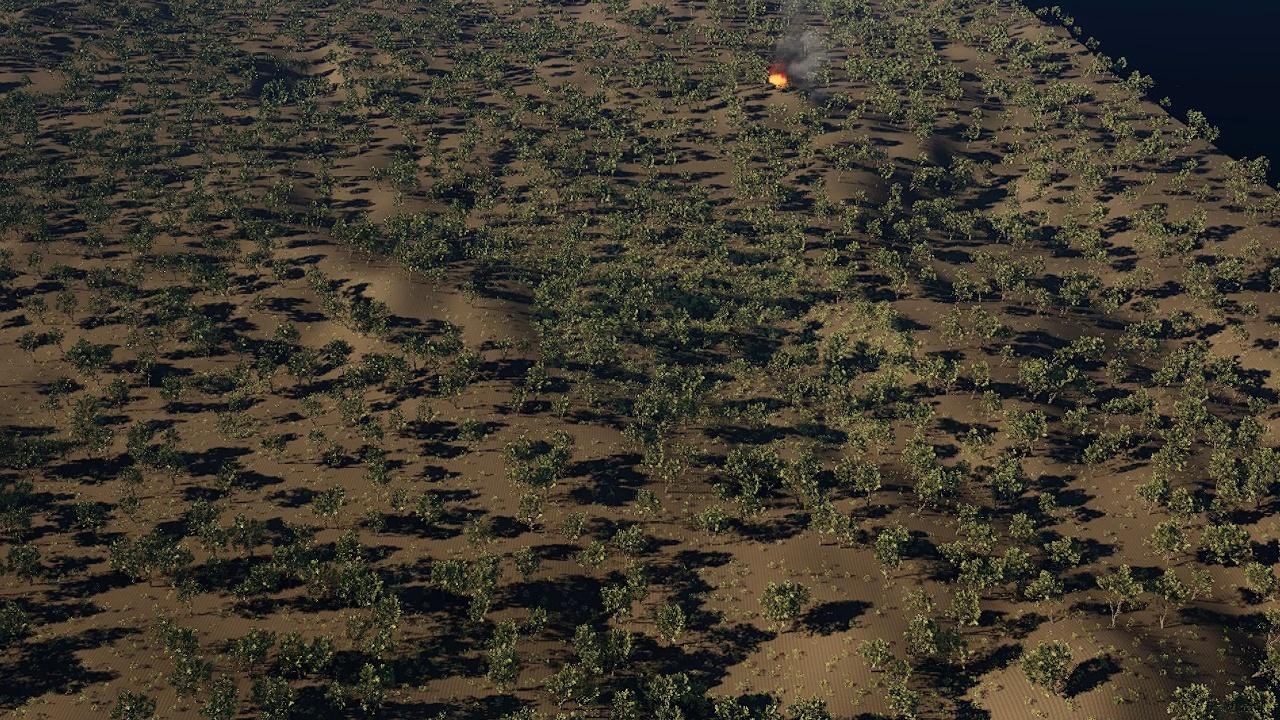fire: (768, 70, 789, 88)
smoke: (772, 15, 822, 84)
